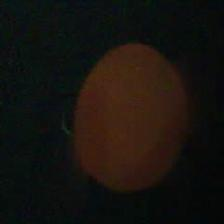fertile: (71, 42, 188, 196)
